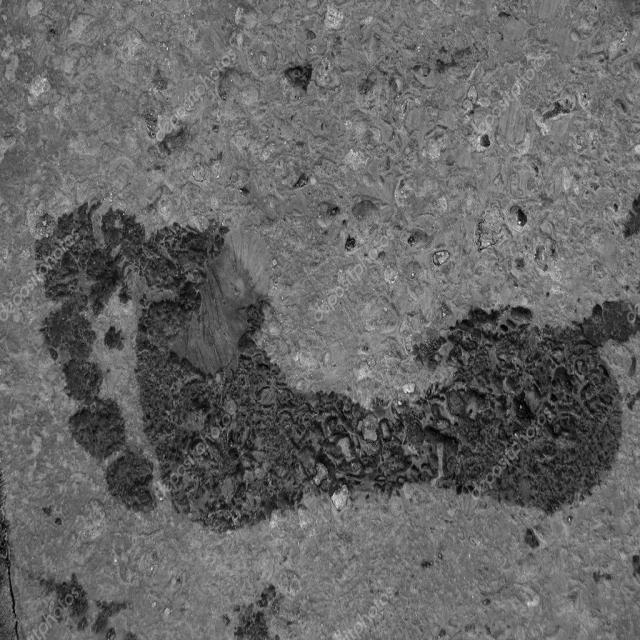human_foot_print: (18, 134, 612, 578)
